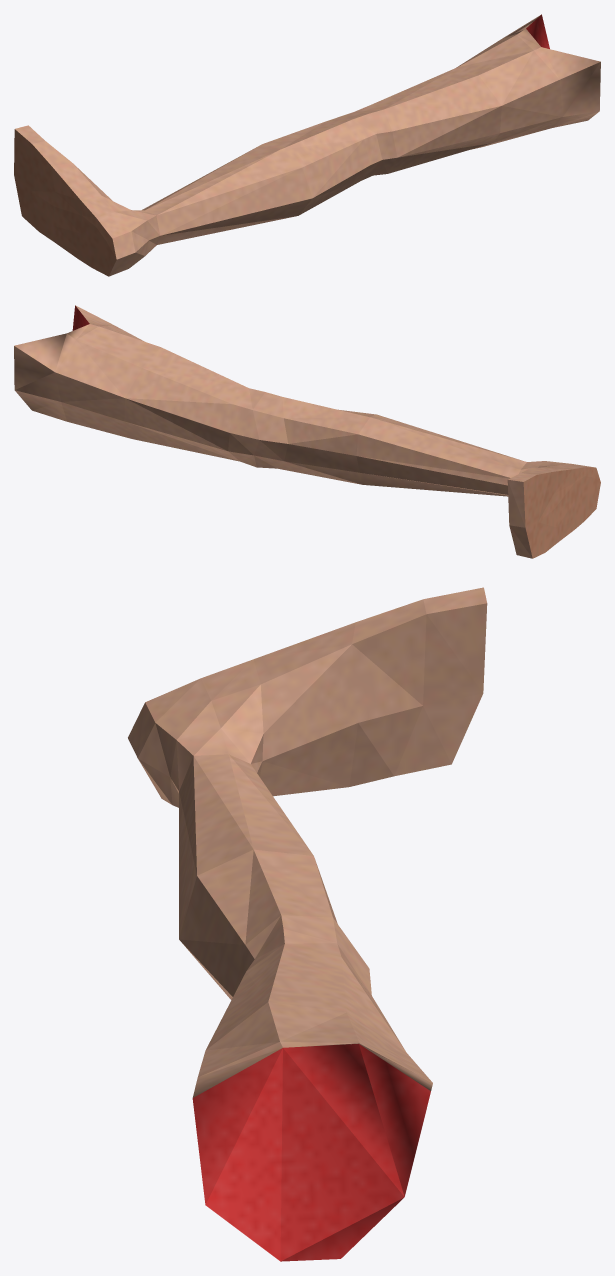
The model's file is g_leg.fbx.
3 renders of one model, top to bottom at view 1: azimuth 30°, elevation 25°; view 2: azimuth 150°, elevation 25°; view 3: azimuth 270°, elevation 25°, orthographic. The views are drawn at different scales.
Parts seen in each view (by area): view 1: leg; view 2: leg; view 3: leg.
Boxes of the visible parts, x1,y1,x2,y2 form: leg: (14, 14, 600, 276); leg: (14, 305, 600, 558); leg: (128, 587, 487, 1261).
Bounding box in the file's own units: 1.16 × 0.344 × 0.2072.
Materials: 1 (1 with a texture image).
